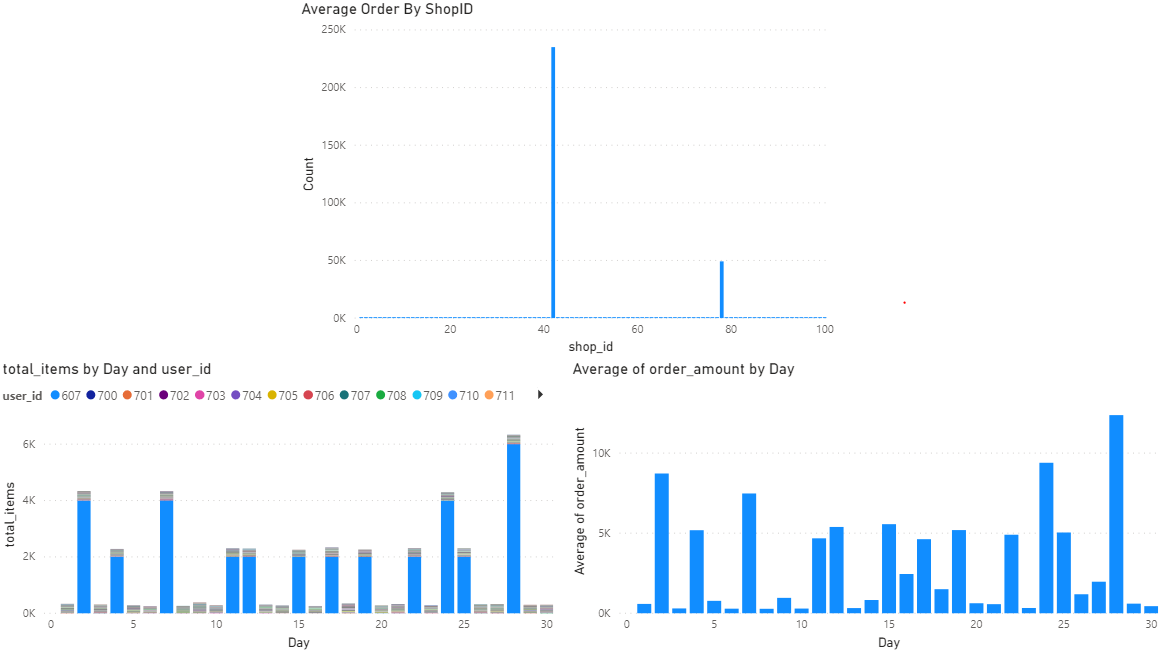

Layout of this report page (visuals, bound fields, positions):
{"tool":"powerbi","page":{"name":"Avg Order Graphs","canvas":[1280,720],"ordinal":2},"visuals":[{"type":"columnChart","title":"Average Order By ShopID","fields":{"Category":["Average Order by Shop ID.shop_id"],"Y":["Sum(Average Order by Shop ID.Count)"]},"box":[328.2,0,596.1,395.5],"z":0},{"type":"columnChart","fields":{"Y":["Avg(Sheet1.order_amount)"],"Category":["Sheet1.created_at.Variation.Date Hierarchy.Day"]},"box":[626.3,359.8,653.7,359.8],"z":1000},{"type":"columnChart","fields":{"Category":["Sheet1.created_at.Variation.Date Hierarchy.Day"],"Y":["Sum(Sheet1.total_items)"],"Series":["Sheet1.user_id"]},"box":[0,395.5,615.3,324.1],"z":2000}]}

Visuals, with their boxes in screenshot pixels (x1, y1, x2, y2), scaled from the page's 1280x720 canvas onto the 1162x651 screenshot:
"Average Order By ShopID" columnChart: rect(298, 0, 839, 358)
columnChart - Avg(Sheet1.order_amount) x Sheet1.created_at.Variation.Date Hierarchy.Day: rect(569, 325, 1161, 650)
columnChart - Sheet1.created_at.Variation.Date Hierarchy.Day x Sum(Sheet1.total_items): rect(0, 358, 559, 650)
